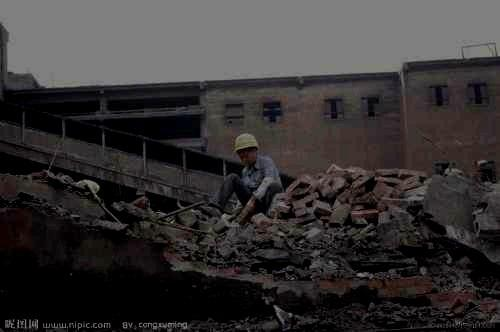helmet: (231, 132, 260, 167)
